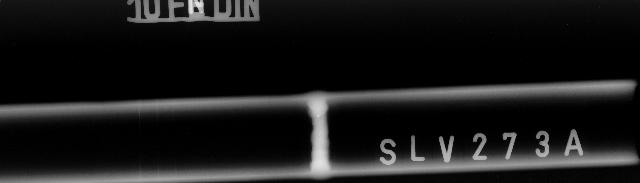PE: (316, 114, 322, 120)
